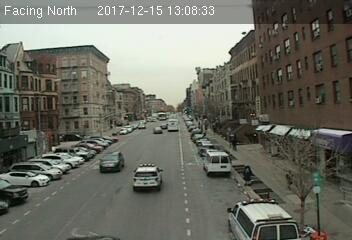car: (99, 152, 124, 171), (152, 127, 163, 133)
pedestrian: (242, 164, 254, 187)
police: (226, 197, 303, 239), (133, 162, 163, 191)
truck: (204, 152, 231, 176), (167, 119, 178, 132)
